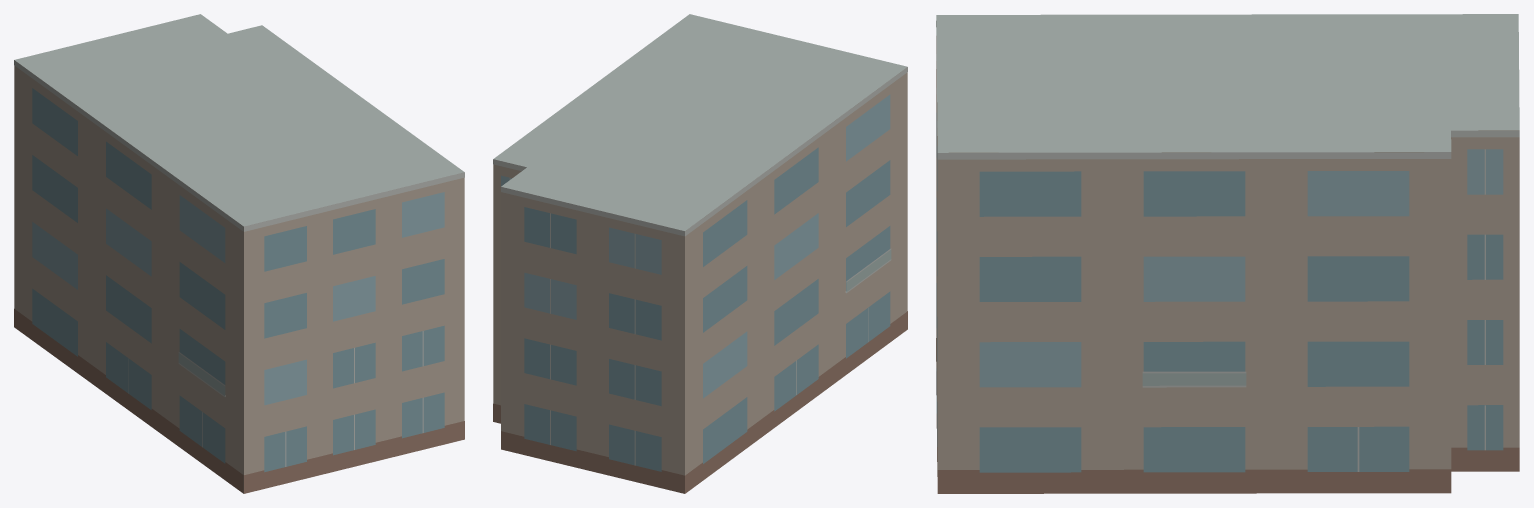
File: residential-56848f17-1cb9-4d1a-a023-fd389df5c495.glb
The picture shows the model from 3 angles, left to right: view 1: azimuth 30°, elevation 25°; view 2: azimuth 150°, elevation 25°; view 3: azimuth 270°, elevation 25°; orthographic projection. The views are drawn at different scales.
Parts seen in each view (by area): view 1: residential-56848f17-1cb9-4d1a-a023-fd389df5c495.tmp; view 2: residential-56848f17-1cb9-4d1a-a023-fd389df5c495.tmp; view 3: residential-56848f17-1cb9-4d1a-a023-fd389df5c495.tmp.
Part boxes in pixels (x1,y1,x2,y2): residential-56848f17-1cb9-4d1a-a023-fd389df5c495.tmp: (14,14,464,493); residential-56848f17-1cb9-4d1a-a023-fd389df5c495.tmp: (493,14,907,493); residential-56848f17-1cb9-4d1a-a023-fd389df5c495.tmp: (936,14,1519,493).
Size of the model in its own units: 10.67 by 12.2 by 18.93.
